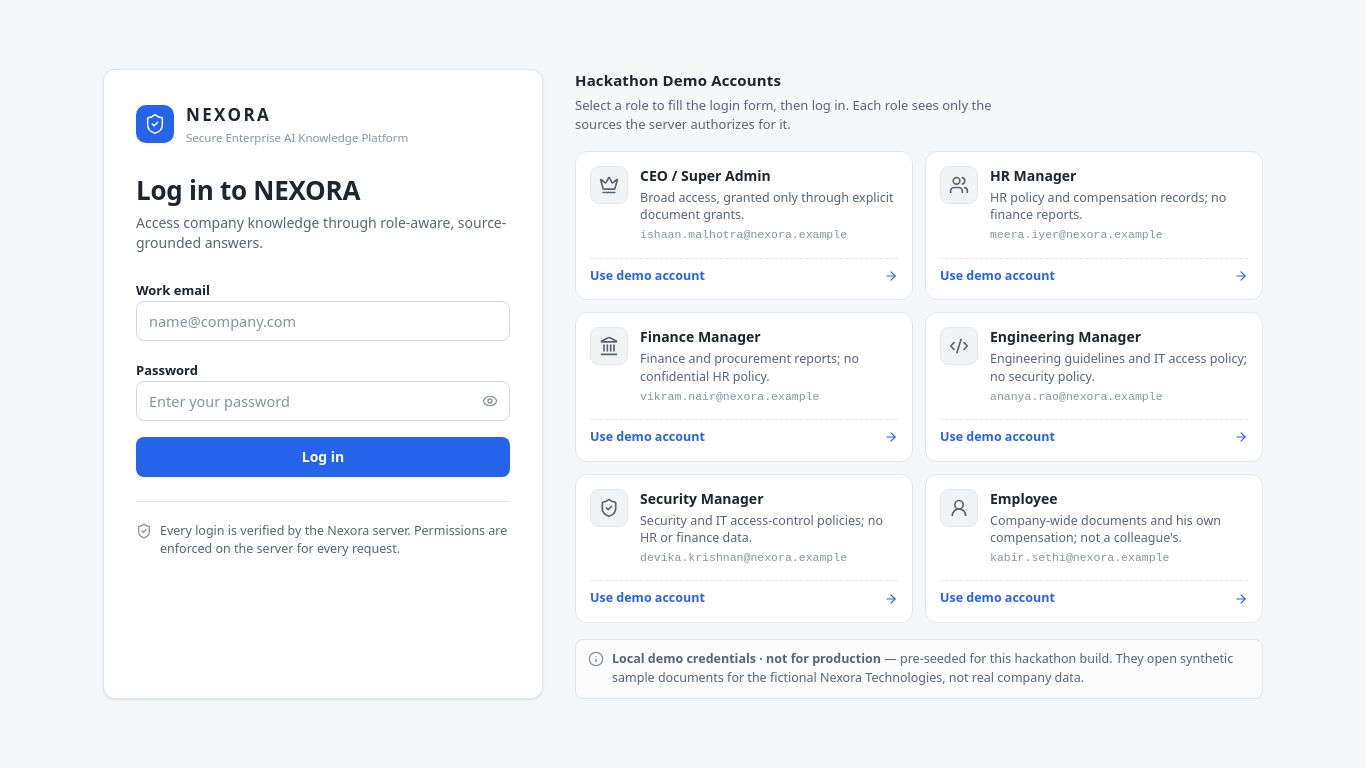
hackathon demo accounts › displays only what /auth/me returns, not what the card claimed
Click the button with test id "demo-account-SUPER_ADMIN". click: (744, 226)
box: x1=575 y1=151 x2=913 y2=300
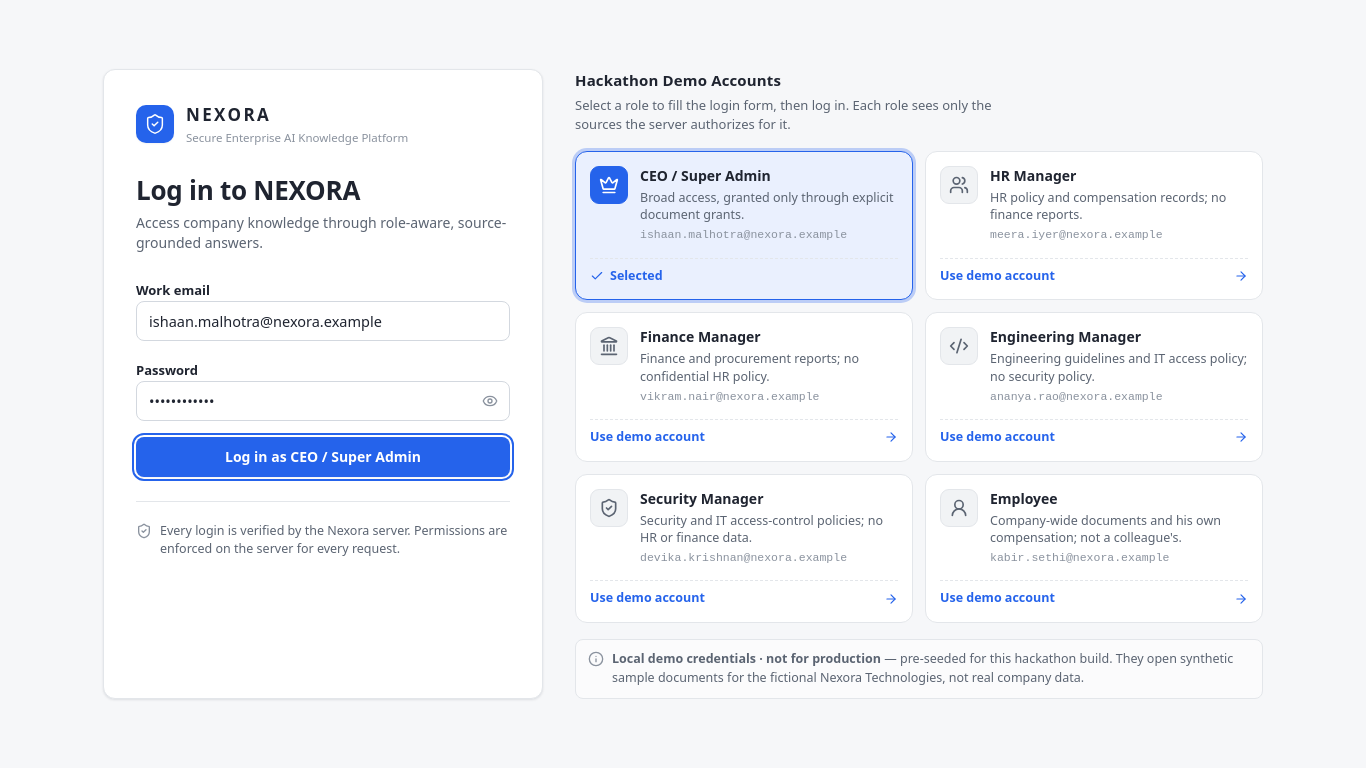
Click the button "Log in as CEO / Super Admin". click: (323, 457)
box: x1=136 y1=437 x2=510 y2=477
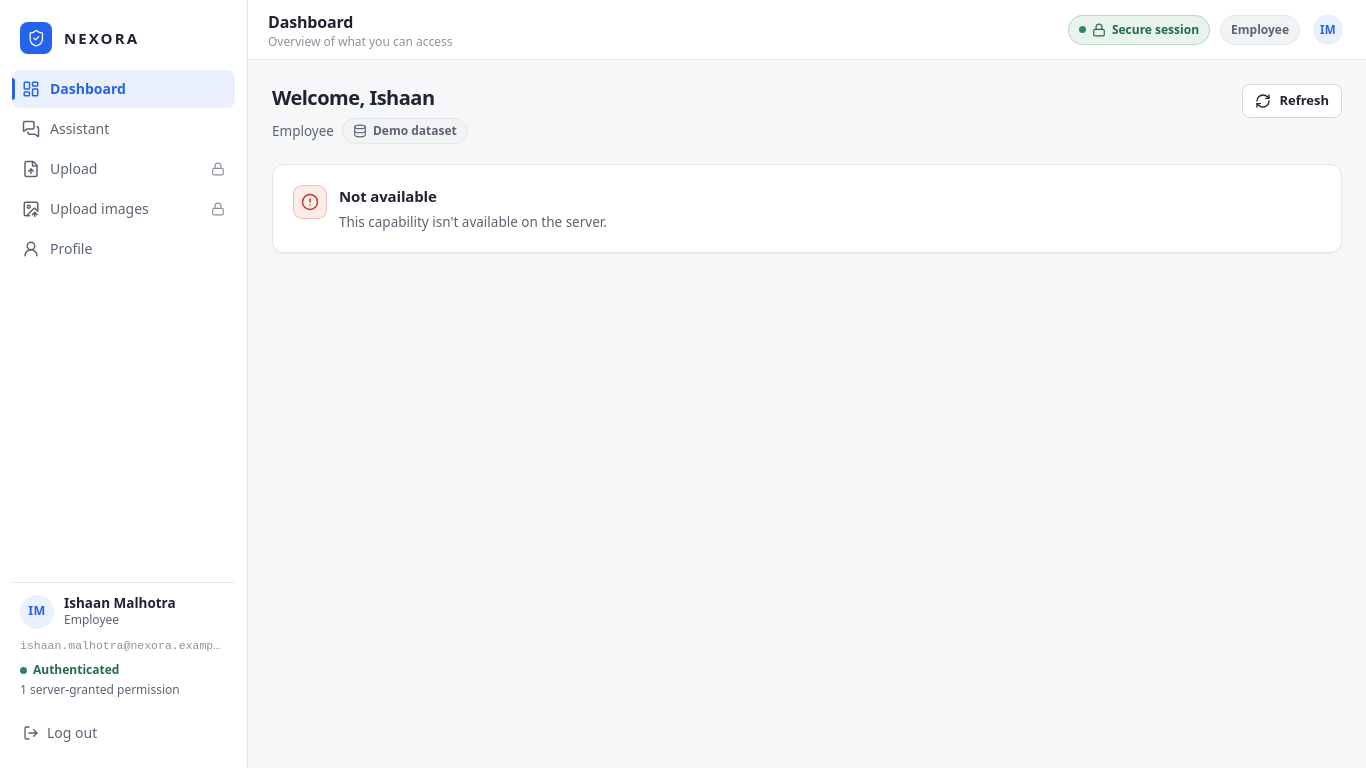
Result: the text with test id "current-user-role" reads "Employee" at x1=1231 y1=20 x2=1289 y2=38
Result: the element with test id "session-card" no longer shows "CEO / Super Admin" at x1=12 y1=595 x2=235 y2=708
